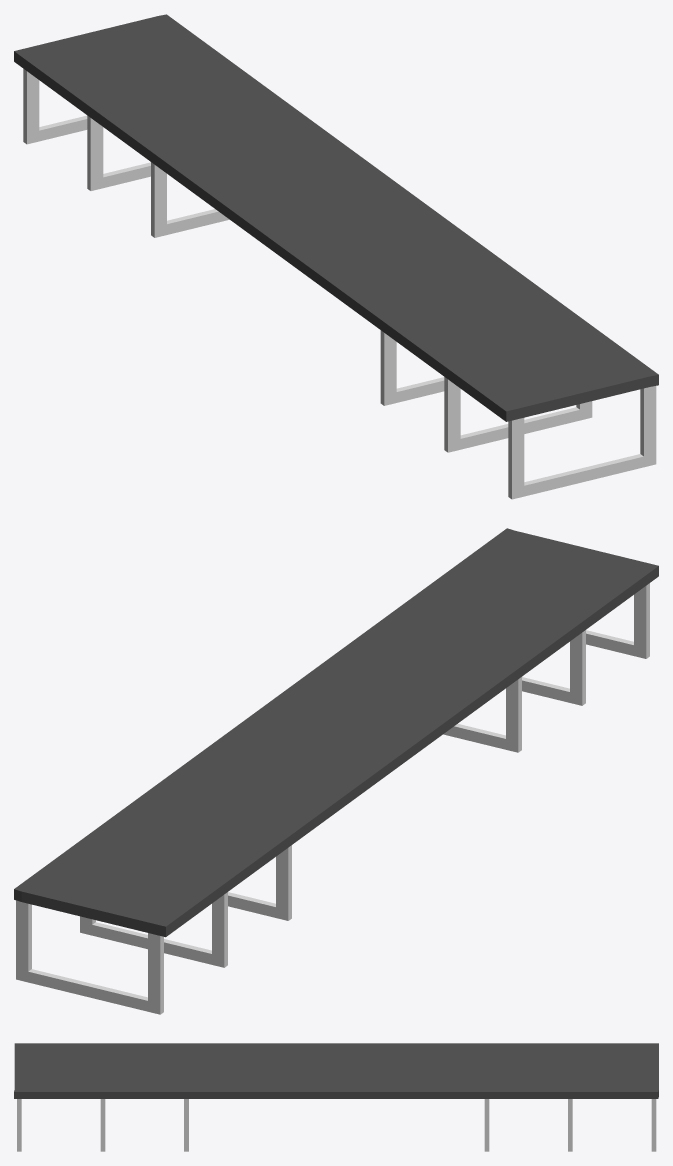
Rendered from Meja 4.fbx.
The picture shows the model from 3 angles, top to bottom: view 1: azimuth 30°, elevation 25°; view 2: azimuth 150°, elevation 25°; view 3: azimuth 270°, elevation 25°; orthographic projection. The views are drawn at different scales.
Visible parts, largest first — view 1: Cube.015; view 2: Cube.015; view 3: Cube.015.
Part boxes in pixels (<box>): Cube.015: <box>14,14,658,499</box>; Cube.015: <box>14,528,658,1014</box>; Cube.015: <box>14,1043,658,1151</box>.
Bounding box in the file's own units: 213 × 122 × 1194.
Materials: 1 (1 with a texture image).
